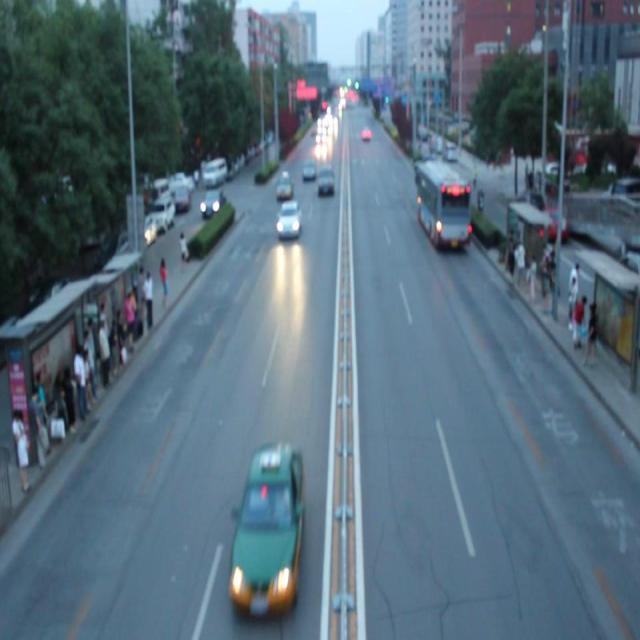car: (234, 442, 304, 602), (278, 200, 299, 235), (277, 170, 292, 196), (318, 167, 333, 192), (302, 160, 315, 179)
van: (414, 161, 470, 247)
